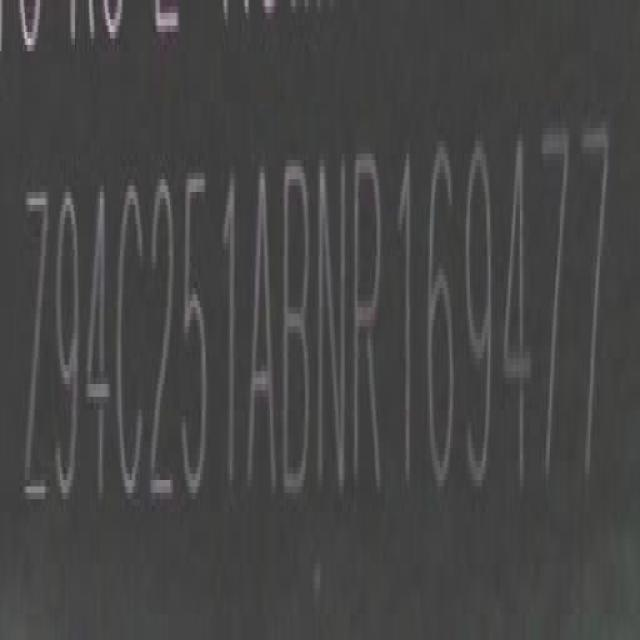1: (394, 156, 414, 487), (222, 180, 238, 510)
2: (150, 182, 177, 522)
4: (502, 159, 536, 477), (85, 177, 111, 522)
5: (180, 164, 209, 506)
6: (421, 128, 461, 500)
7: (540, 118, 574, 500), (580, 118, 610, 497)
9: (461, 141, 496, 497), (56, 174, 84, 516)
A: (244, 172, 280, 509)
B: (280, 156, 313, 496)
C: (112, 175, 146, 510)
N: (315, 162, 349, 496)
R: (353, 154, 386, 496)
Z: (18, 164, 52, 507)
